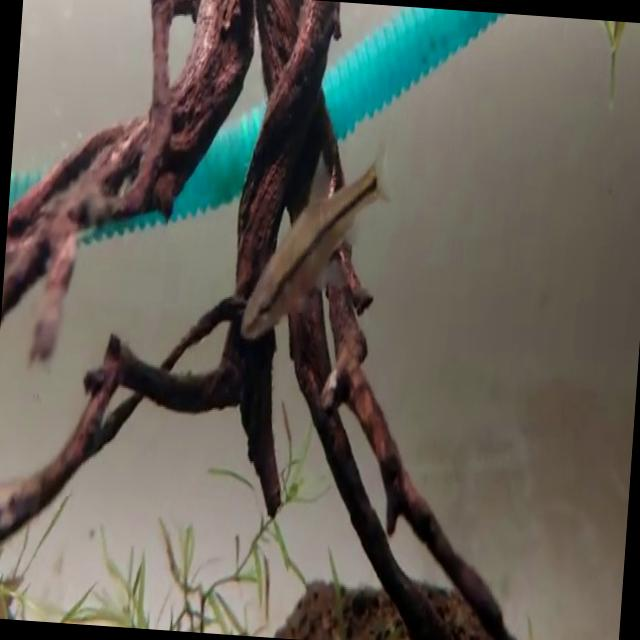Cakil Baligi: (238, 119, 384, 348)
